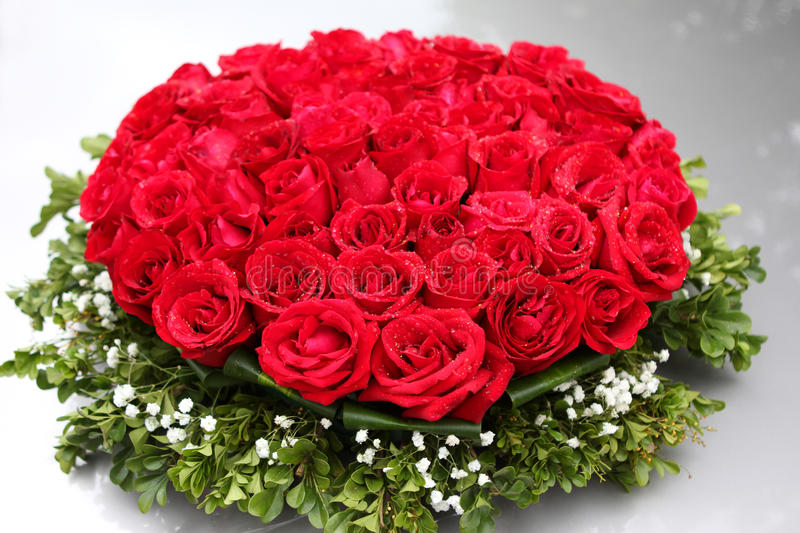RedRose: (432, 219, 582, 364), (372, 300, 498, 411), (602, 204, 698, 301), (268, 294, 348, 410), (559, 153, 652, 220), (452, 72, 541, 137), (579, 259, 648, 342), (161, 273, 241, 334), (246, 43, 342, 93), (254, 168, 329, 224), (321, 241, 401, 291), (188, 56, 245, 124), (276, 119, 369, 159), (370, 122, 441, 172), (339, 193, 397, 254), (143, 171, 201, 230), (405, 58, 483, 101), (554, 79, 620, 123), (263, 238, 312, 290), (342, 26, 362, 122), (479, 140, 516, 182), (492, 193, 529, 230), (192, 128, 221, 169)
